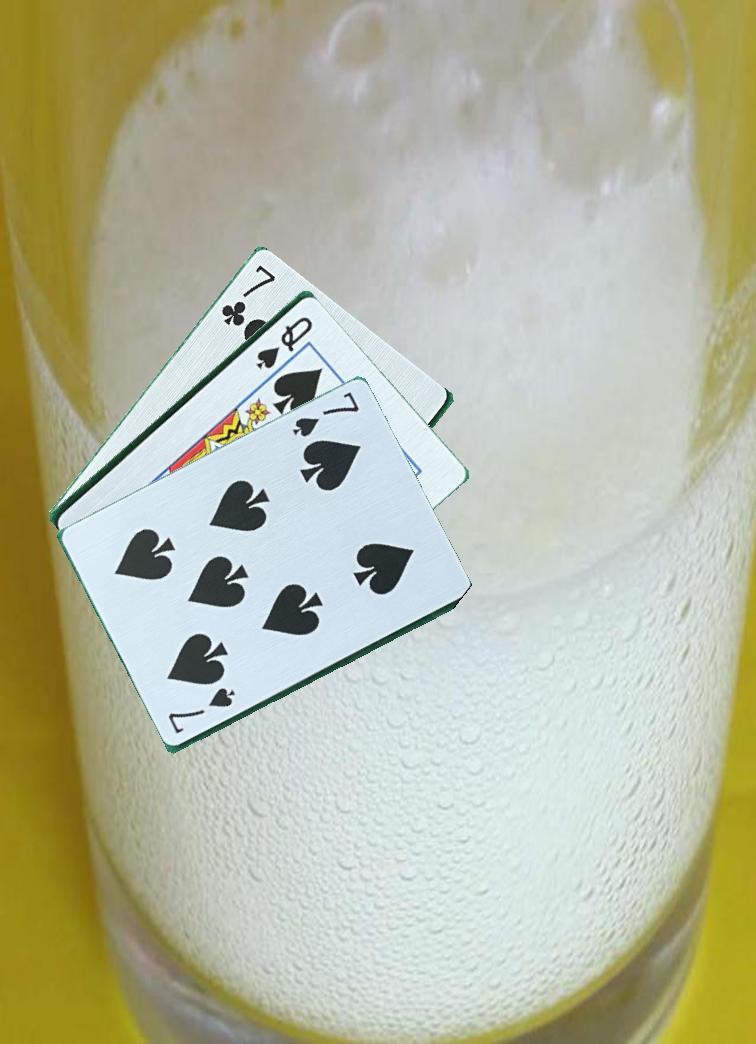7c: (217, 261, 279, 337)
7s: (289, 387, 363, 440), (165, 683, 239, 736)
qs: (253, 312, 316, 371)
